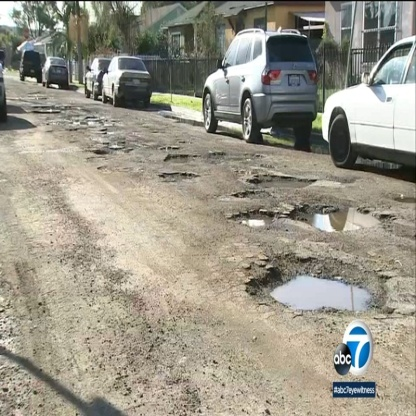pothole: (233, 245, 393, 321), (286, 195, 397, 237), (89, 110, 152, 162), (233, 169, 325, 194), (221, 200, 285, 229), (162, 149, 271, 166), (157, 170, 203, 184)
